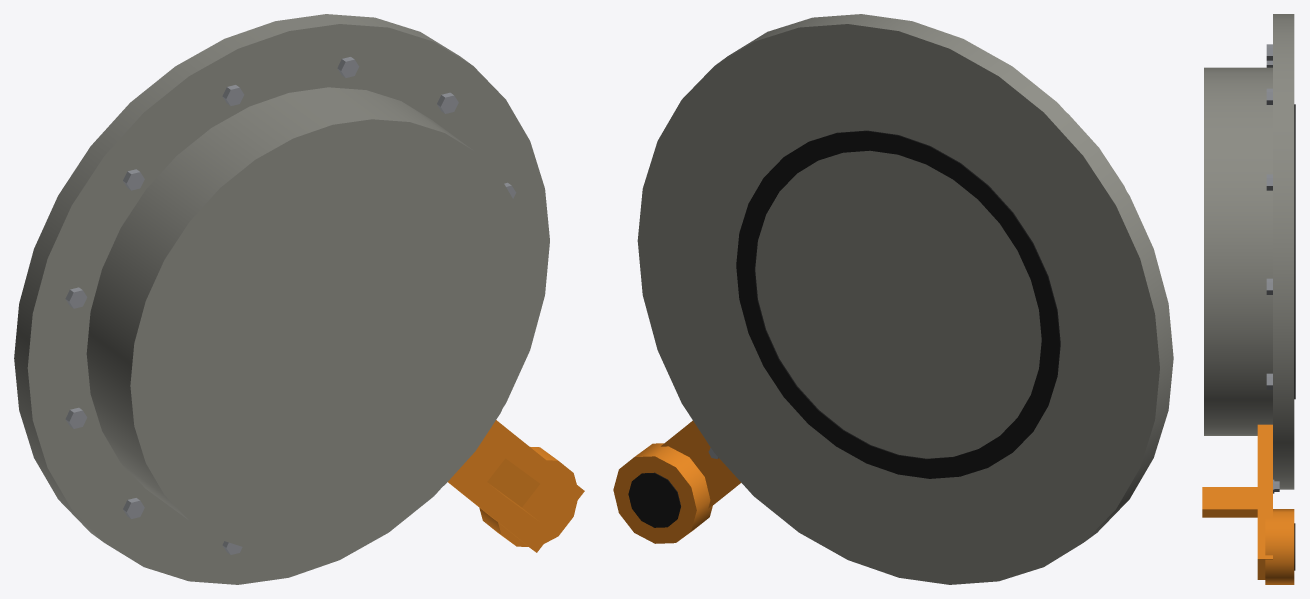
Rendered from bunk500_flange_fore.obj.
3 views of the same model, side by side, from view 1: azimuth 30°, elevation 25°; view 2: azimuth 150°, elevation 25°; view 3: azimuth 270°, elevation 25° (orthographic). The views are drawn at different scales.
Visible parts, largest first — view 1: bunk500_flange_fore; view 2: bunk500_flange_fore; view 3: bunk500_flange_fore.
Boxes of the visible parts, x1=… form: bunk500_flange_fore: x1=14, y1=14, x2=584, y2=584; bunk500_flange_fore: x1=613, y1=14, x2=1173, y2=584; bunk500_flange_fore: x1=1202, y1=14, x2=1295, y2=584.
Size of the model in its own units: 3.25 by 3.25 by 0.6072.
